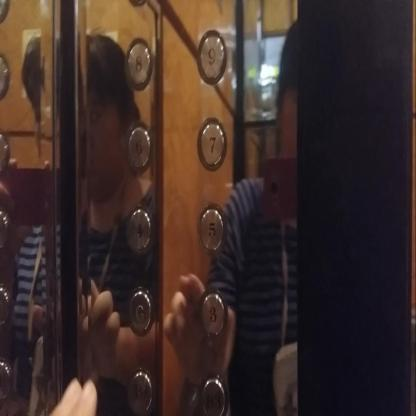3: (198, 285, 227, 340)
4: (125, 202, 153, 256)
5: (197, 200, 226, 256)
6: (124, 119, 153, 173)
7: (196, 113, 228, 172)
8: (123, 36, 154, 91)
9: (196, 28, 227, 86)
B1: (126, 363, 153, 415)
B3: (198, 371, 229, 415)
G: (127, 283, 154, 336)
